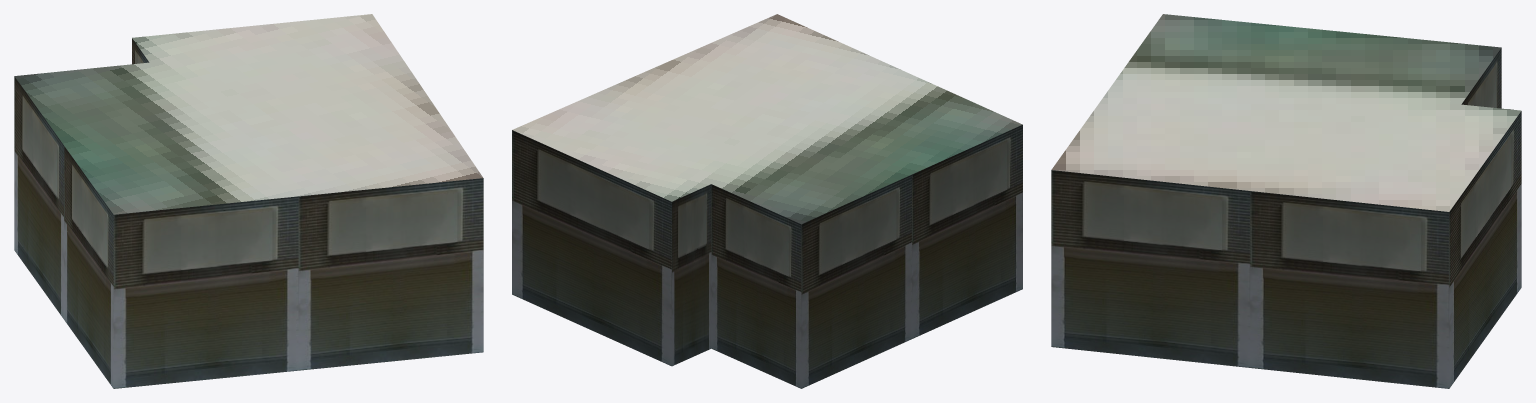
3 views of the same model, side by side, from view 1: azimuth 30°, elevation 25°; view 2: azimuth 150°, elevation 25°; view 3: azimuth 270°, elevation 25° (orthographic). The views are drawn at different scales.
Visible parts, largest first — view 1: SketchUp (×3); view 2: SketchUp (×5); view 3: SketchUp (×4).
Boxes of the visible parts, x1=… form: SketchUp (×3): x1=14, y1=14, x2=483, y2=388; SketchUp (×5): x1=512, y1=14, x2=1022, y2=388; SketchUp (×4): x1=1051, y1=14, x2=1521, y2=388.
Size of the model in its own units: 8.35 by 8.38 by 3.48.
Materials: 2 (2 with a texture image).
